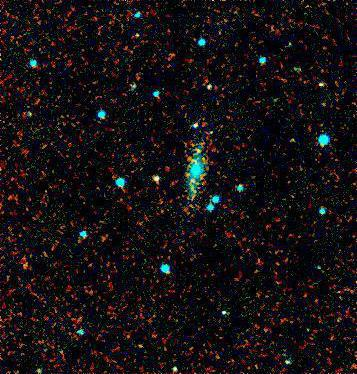star: (13, 252, 43, 282)
